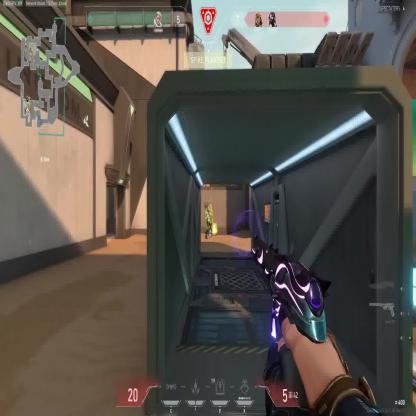enemy: (204, 204, 211, 239), (208, 203, 213, 237)
enemy_head: (206, 205, 209, 210), (210, 204, 212, 210)
